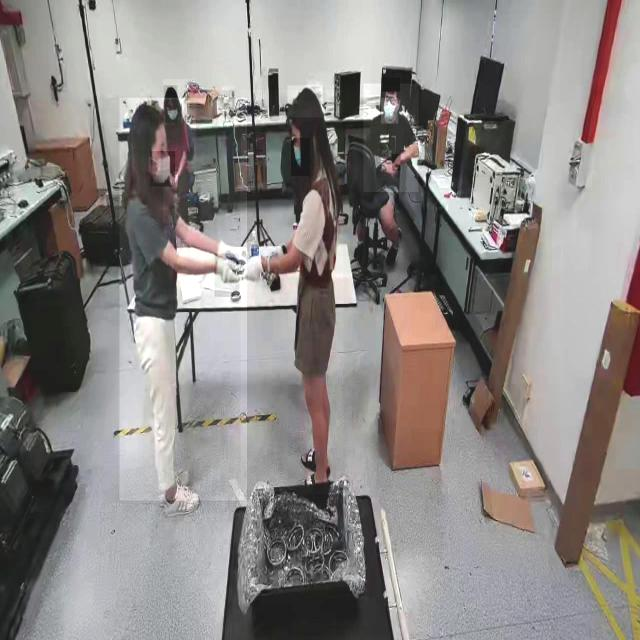face_mask: (151, 151, 175, 187), (291, 138, 310, 176), (381, 98, 399, 124), (165, 100, 178, 122)
hand_glove: (214, 253, 240, 297), (241, 252, 272, 286), (218, 231, 245, 268)
hand_noglove: (388, 159, 398, 176), (392, 154, 401, 172), (168, 172, 176, 188), (174, 172, 178, 188)
head_nohelmet: (288, 85, 324, 118), (129, 101, 166, 128), (382, 78, 400, 92), (164, 85, 178, 99)
person: (120, 98, 248, 501), (240, 90, 344, 495), (363, 83, 419, 193), (163, 79, 196, 223)
shoes: (158, 482, 202, 520)
